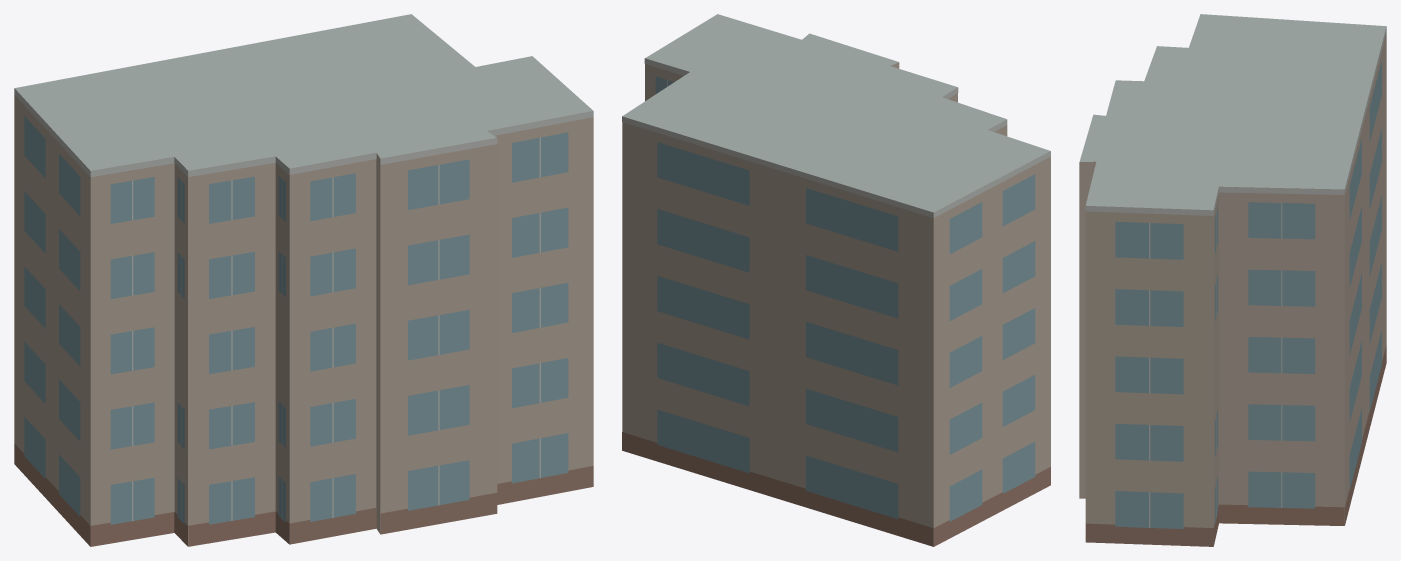
The model's file is survey-upis-32872402.glb.
3 views of the same model, side by side, from view 1: azimuth 30°, elevation 25°; view 2: azimuth 150°, elevation 25°; view 3: azimuth 270°, elevation 25° (orthographic). The views are drawn at different scales.
Visible parts, largest first — view 1: survey-upis-32872402.tmp; view 2: survey-upis-32872402.tmp; view 3: survey-upis-32872402.tmp.
Boxes of the visible parts, box(x1,y1,x2,y2) form: survey-upis-32872402.tmp: box(14, 14, 593, 546); survey-upis-32872402.tmp: box(622, 14, 1050, 546); survey-upis-32872402.tmp: box(1079, 14, 1386, 546).
Bounding box in the file's own units: 18.14 × 14.5 × 12.
